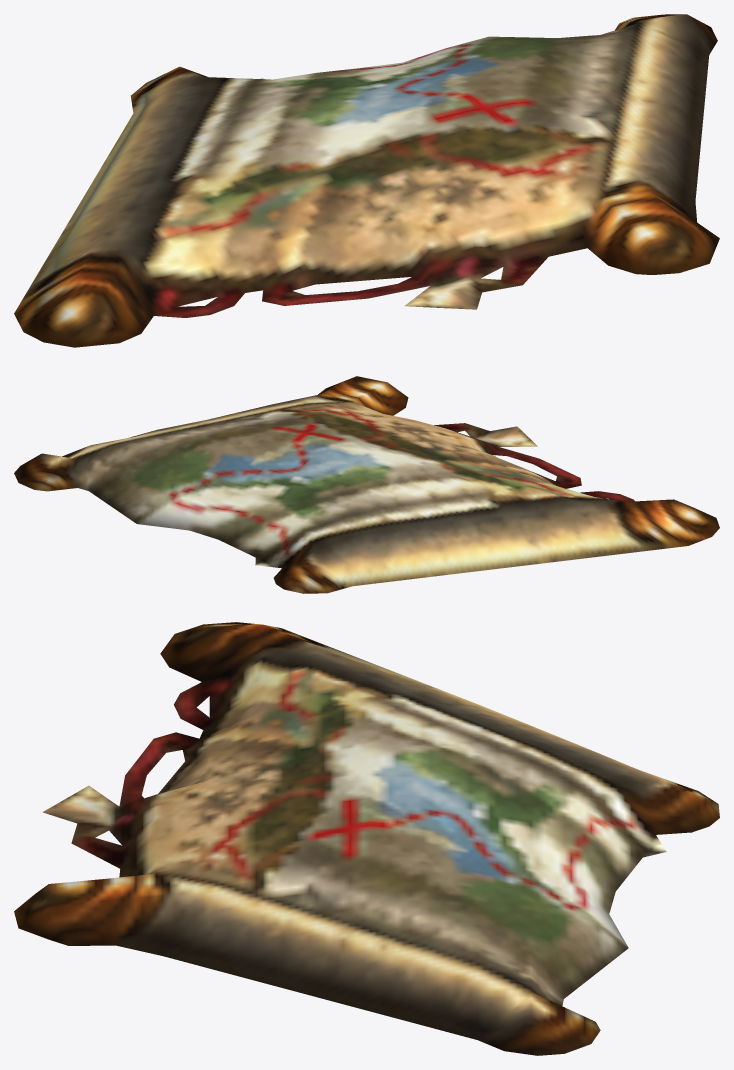
File: item_map.glb
3 views of the same model, one above another, from view 1: azimuth 30°, elevation 25°; view 2: azimuth 150°, elevation 25°; view 3: azimuth 270°, elevation 25° (orthographic). The views are drawn at different scales.
Visible parts, largest first — view 1: map; view 2: map; view 3: map.
Part boxes in pixels (x1=…): map: x1=14, y1=14, x2=719, y2=347; map: x1=14, y1=376, x2=719, y2=593; map: x1=14, y1=622, x2=719, y2=1055.
Size of the model in its own units: 1.53 by 0.1493 by 1.05.
1 material, 1 textured.
